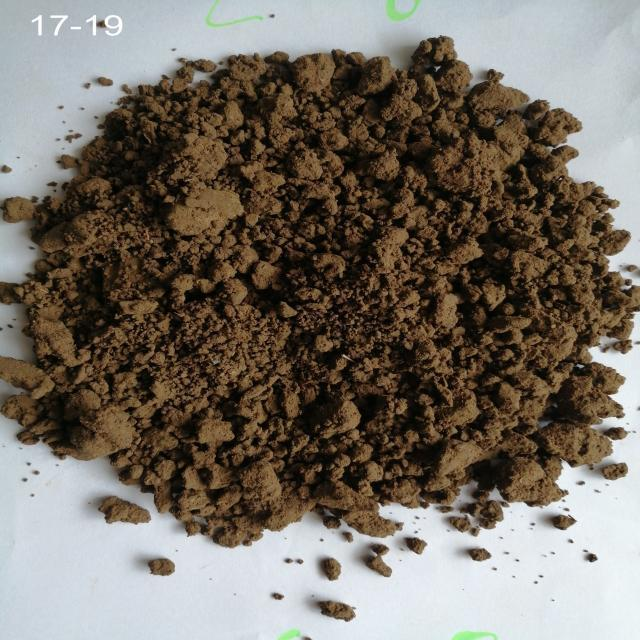soil: (140, 107, 565, 479)
